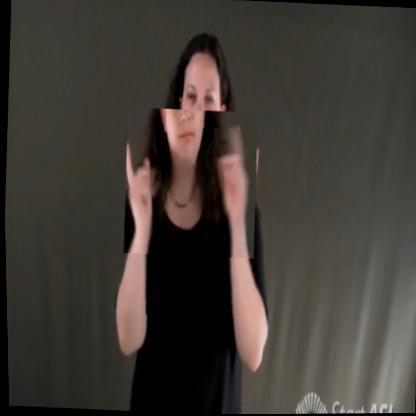NiceToMeetYou: (119, 106, 260, 260)
